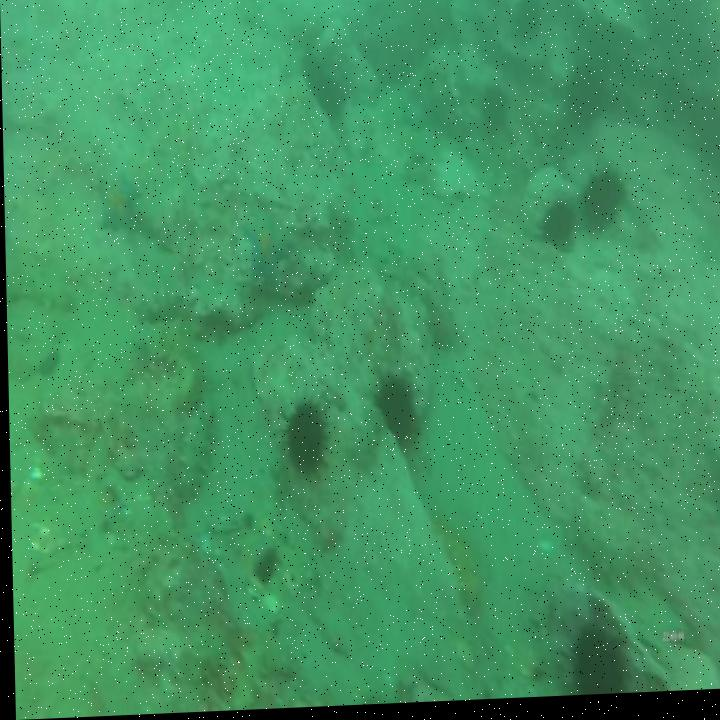echinus: (559, 610, 623, 701), (274, 392, 332, 487), (580, 170, 630, 240), (560, 66, 607, 134), (534, 193, 579, 255), (307, 66, 345, 131), (477, 82, 511, 140), (511, 0, 544, 52)
holothurian: (222, 639, 309, 713), (425, 512, 480, 616), (144, 326, 204, 417), (174, 392, 219, 511), (345, 403, 387, 475)
starfish: (235, 194, 292, 294), (91, 168, 141, 240)
